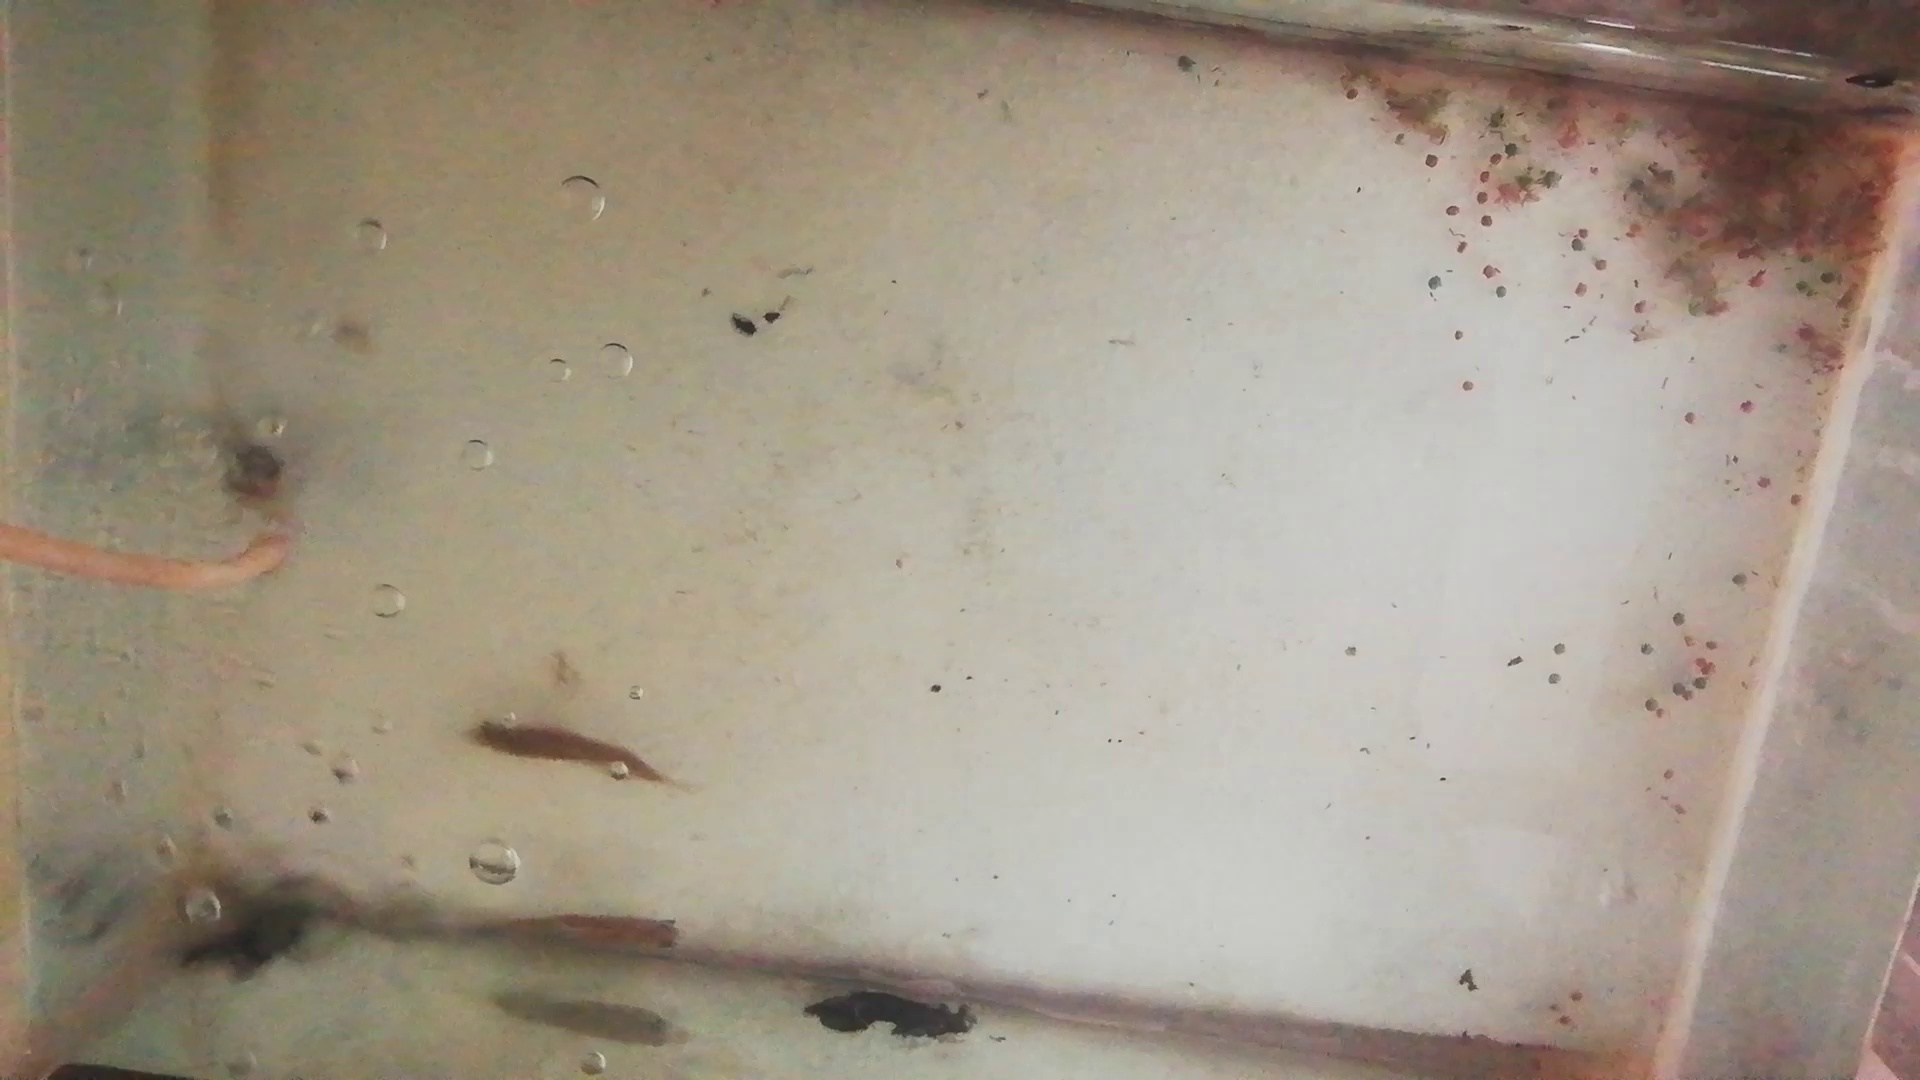fish: (463, 720, 663, 787), (484, 909, 688, 963)
